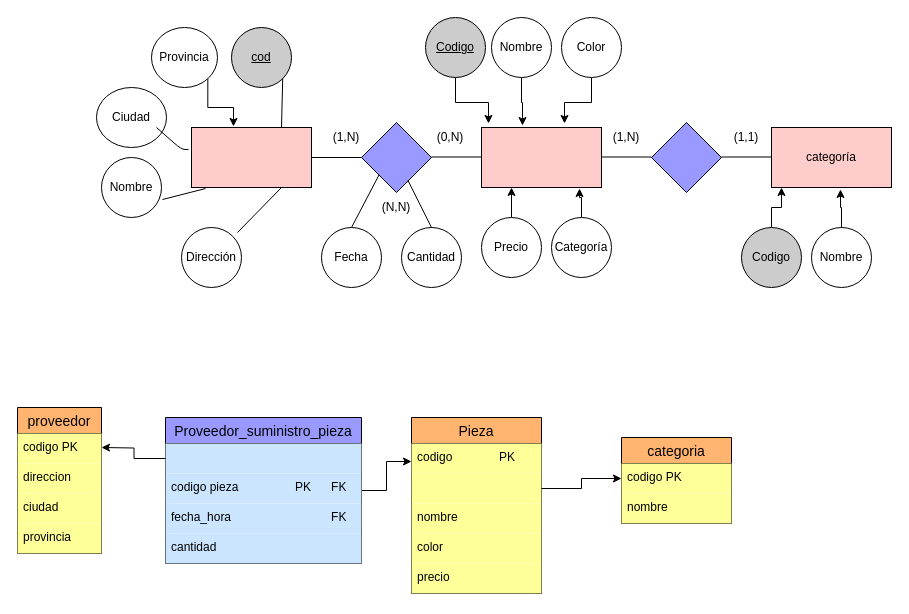
This 909x614 diagram has some shape labels left out. The shapes that lost their labels are listed below. From the top down, each one's centre as x and y in pixels, then its label:
At [251,157]: "Proveedores".
At [396,157]: "suministra".
At [541,157]: "Piezas".
At [686,157]: "Pertenece".
At [263,458]: "codigo proveedor PK FK".
At [476,488]: "codigo_categoria FK".
